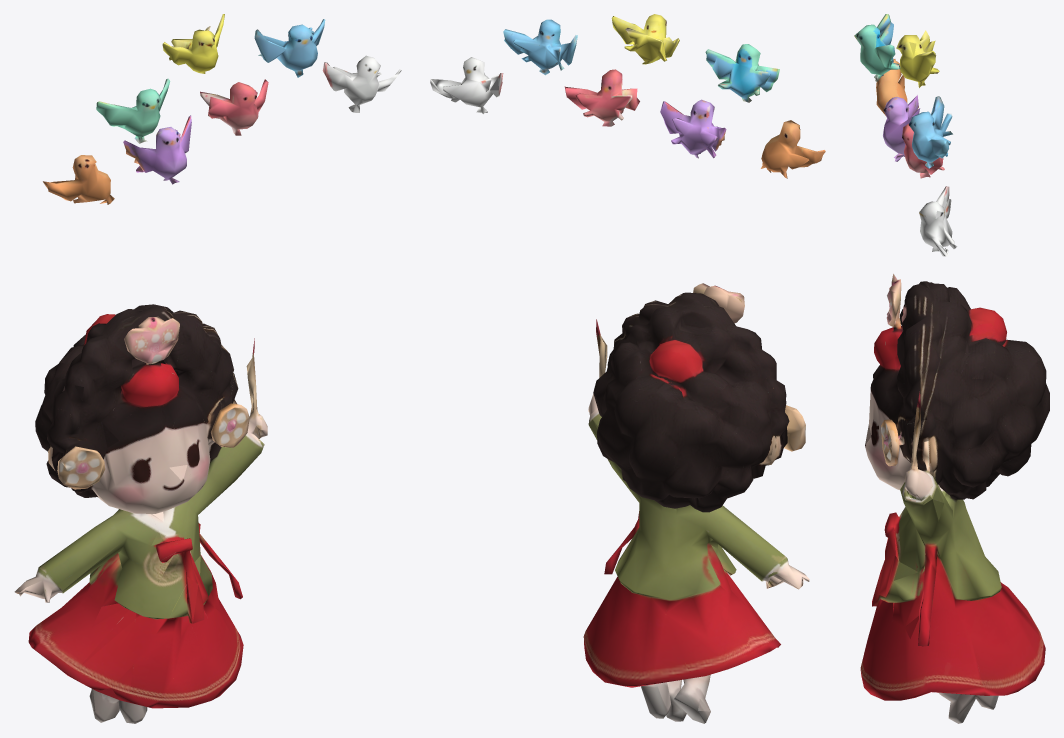
Rendered from jungsun-bird-ani.glb.
The picture shows the model from 3 angles, left to right: view 1: azimuth 30°, elevation 25°; view 2: azimuth 150°, elevation 25°; view 3: azimuth 270°, elevation 25°; orthographic projection. The views are drawn at different scales.
Visible parts, largest first — view 1: Mesh_0; view 2: Mesh_0; view 3: Mesh_0.
Boxes of the visible parts, <box> form: Mesh_0: <box>14,14,401,723</box>; Mesh_0: <box>430,14,825,723</box>; Mesh_0: <box>854,14,1049,723</box>.
Bounding box in the file's own units: 13.36 × 23.12 × 5.78.
Materials: 1 (1 with a texture image).
